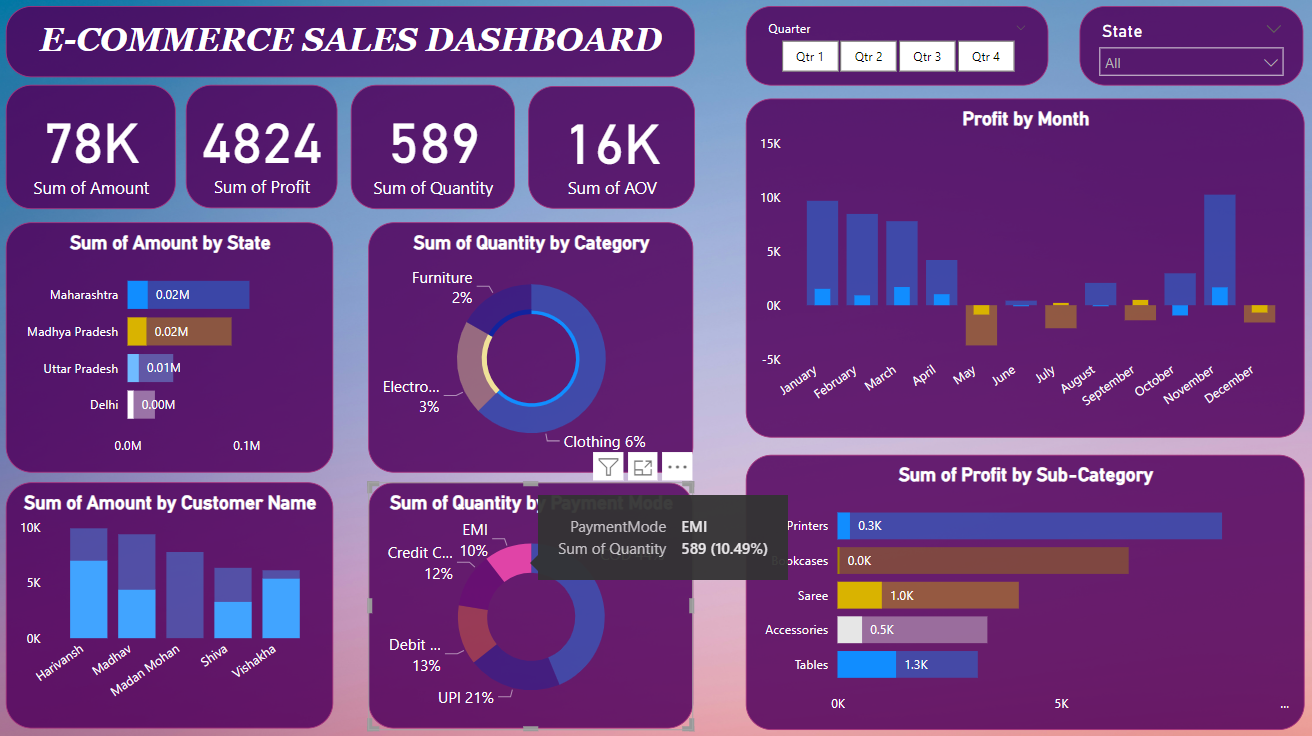

What the dashboard file says about the page in this screenshot:
{"tool":"powerbi","page":{"name":"Page 1","canvas":[1280,720],"ordinal":0},"visuals":[{"type":"textbox","box":[13.3,14.5,664.5,68.7],"z":0},{"type":"columnChart","title":"Profit by Month","fields":{"Category":["Orders.Order Date.Variation.Date Hierarchy.Month"],"Y":["Sum(Details.Profit)"]},"box":[727.2,103.7,539.1,326.8],"z":1000},{"type":"barChart","fields":{"Category":["Details.Sub-Category"],"Y":["Sum(Details.Profit)"]},"box":[726,445,539.1,266.5],"z":2000},{"type":"donutChart","fields":{"Category":["Details.Category"],"Y":["Sum(Details.Quantity)"]},"box":[363,223.1,313.6,241.2],"z":3000},{"type":"donutChart","title":"Sum of Quantity by Payment Mode","fields":{"Y":["Sum(Details.Quantity)"],"Category":["Details.PaymentMode"]},"box":[362.5,473.9,313.6,238.6],"z":4000},{"type":"card","fields":{"Values":["Sum(Details.Amount)"]},"box":[13,91,164,120],"z":5000},{"type":"card","fields":{"Values":["Sum(Details.Quantity)"]},"box":[346,90,158,120],"z":6000},{"type":"card","fields":{"Values":["Sum(Details.Profit)"]},"box":[187,91,146,119],"z":7000},{"type":"card","fields":{"Values":["Sum(Details.AOV)"]},"box":[517,92,161,118],"z":8000},{"type":"barChart","fields":{"Category":["Orders.State"],"Y":["Sum(Details.Amount)"]},"box":[13.3,223.1,316,241.2],"z":9000},{"type":"columnChart","title":"Sum of Amount by Customer Name","fields":{"Category":["Orders.CustomerName"],"Y":["Sum(Details.Amount)"]},"box":[13.6,473.9,315.9,238.6],"z":10000},{"type":"slicer","fields":{"Values":["Orders.Order Date.Variation.Date Hierarchy.Quarter"]},"box":[727.2,14.5,291.9,77.2],"z":11000},{"type":"slicer","fields":{"Values":["Orders.State"]},"box":[1049.2,14.5,215.9,77.2],"z":12000}]}

Visuals, with their boxes in screenshot pixels (x1, y1, x2, y2), scaled from the page's 1280x720 canvas onto the 1312x736 screenshot:
textbox: pyautogui.locateOnScreen(14, 15, 695, 85)
"Profit by Month" columnChart: pyautogui.locateOnScreen(745, 106, 1298, 440)
barChart - Details.Sub-Category x Sum(Details.Profit): pyautogui.locateOnScreen(744, 455, 1297, 727)
donutChart - Details.Category x Sum(Details.Quantity): pyautogui.locateOnScreen(372, 228, 694, 475)
"Sum of Quantity by Payment Mode" donutChart: pyautogui.locateOnScreen(372, 484, 693, 728)
card - Sum(Details.Amount): pyautogui.locateOnScreen(13, 93, 181, 216)
card - Sum(Details.Quantity): pyautogui.locateOnScreen(355, 92, 517, 215)
card - Sum(Details.Profit): pyautogui.locateOnScreen(192, 93, 341, 215)
card - Sum(Details.AOV): pyautogui.locateOnScreen(530, 94, 695, 215)
barChart - Orders.State x Sum(Details.Amount): pyautogui.locateOnScreen(14, 228, 338, 475)
"Sum of Amount by Customer Name" columnChart: pyautogui.locateOnScreen(14, 484, 338, 728)
slicer - Orders.Order Date.Variation.Date Hierarchy.Quarter: pyautogui.locateOnScreen(745, 15, 1045, 94)
slicer - Orders.State: pyautogui.locateOnScreen(1075, 15, 1297, 94)
